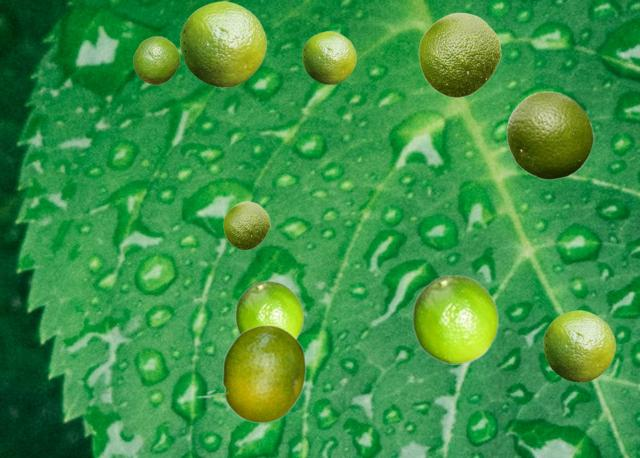calamansi: (194, 324, 305, 422), (506, 90, 593, 179), (412, 274, 498, 363), (180, 1, 265, 86), (418, 12, 500, 97), (543, 310, 614, 381), (235, 280, 303, 338), (302, 31, 355, 83), (133, 36, 179, 84), (223, 201, 269, 249)
